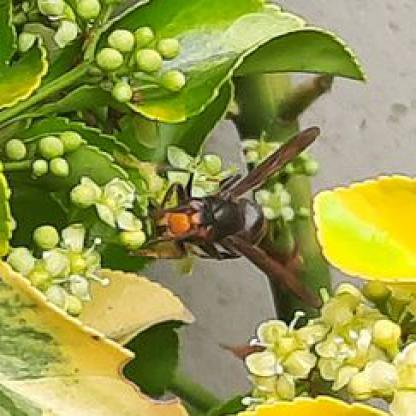Asian Hornet: (144, 128, 318, 288)
